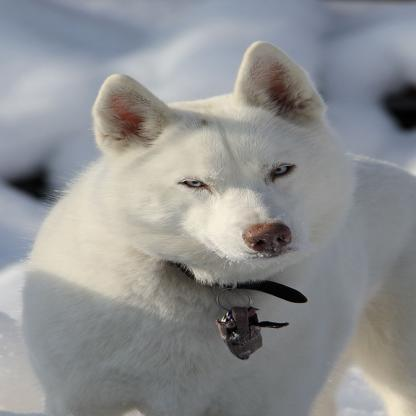dog: (0, 42, 359, 416)
